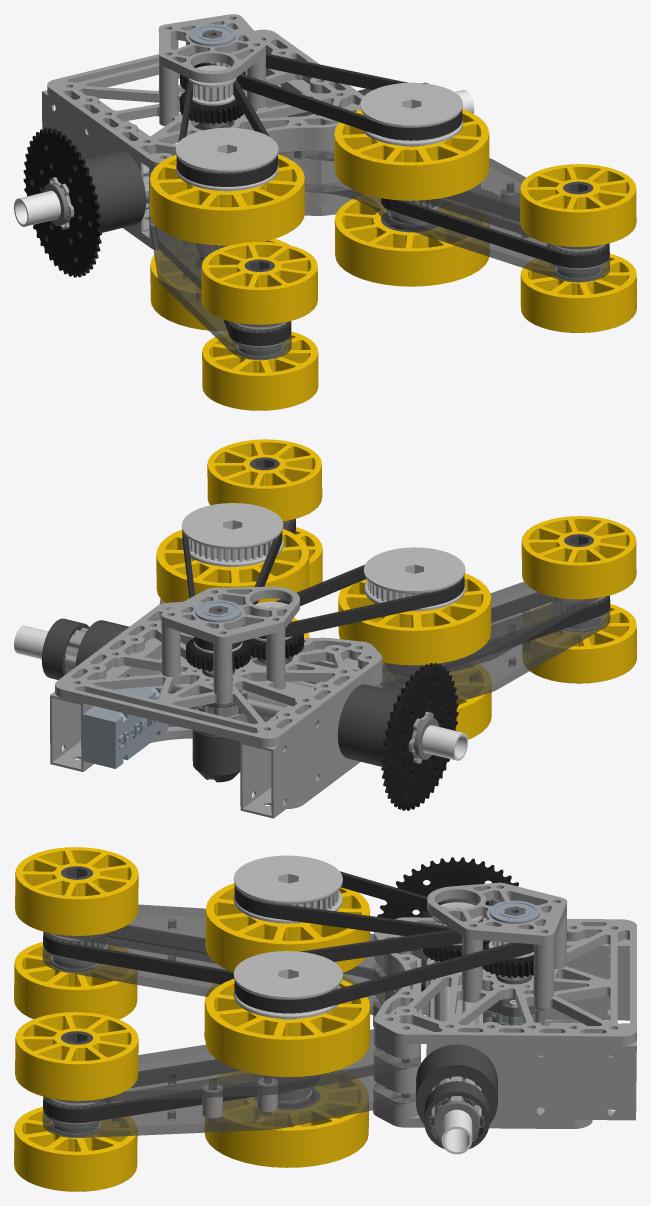
3 renders of one model, top to bottom at view 1: azimuth 30°, elevation 25°; view 2: azimuth 150°, elevation 25°; view 3: azimuth 270°, elevation 25°, orthographic. The views are drawn at different scales.
Parts seen in each view (by area): view 1: 4" OD 1/2" Hex Bore Compliant Wheel 35A (am-3480) NOSIMPLIFY (×4), am-3946 3IN 500Hex Molded Compliant Wheel VER 2 NOSIMPLIFY (×4), Part 1 (×3), Part 3, 6328-23-P-0307 NOSIMPLIFY (×2), 48T #25 Plate Sprocket MAXSpline (REV-21-1964), 80t 5mm Belt (×2), 92t 5mm Belt, Part 14, THE TUBE YEAH, 76t 5mm Belt, Part 2 (×2) (+9 smaller); view 2: am-3946 3IN 500Hex Molded Compliant Wheel VER 2 NOSIMPLIFY (×4), Part 3, Part 1 (×5), 4" OD 1/2" Hex Bore Compliant Wheel 35A (am-3480) NOSIMPLIFY (×3), 6328-23-P-0307 NOSIMPLIFY (×2), THE TUBE YEAH, 48T #25 Plate Sprocket MAXSpline (REV-21-1964), Part 14, Simplified SPARK MAX, 76t 5mm Belt, Tube 2"x1"x5.116", 80t 5mm Belt (+9 smaller); view 3: Part 1 (×4), am-3946 3IN 500Hex Molded Compliant Wheel VER 2 NOSIMPLIFY (×4), 4" OD 1/2" Hex Bore Compliant Wheel 35A (am-3480) NOSIMPLIFY (×3), Part 3, Tube 2"x1"x5.116", 6328-23-P-0307 NOSIMPLIFY (×2), 80t 5mm Belt (×2), 92t 5mm Belt, Part 14, 76t 5mm Belt, THE TUBE YEAH, 48T #25 Plate Sprocket MAXSpline (REV-21-1964) (+12 smaller).
Part boxes in pixels (box(x1,y1,x2,y2)): 4" OD 1/2" Hex Bore Compliant Wheel 35A (am-3480) NOSIMPLIFY (×4): box(150, 109, 489, 331); am-3946 3IN 500Hex Molded Compliant Wheel VER 2 NOSIMPLIFY (×4): box(201, 164, 636, 410); Part 1 (×3): box(82, 149, 609, 360); Part 3: box(47, 29, 363, 169); 6328-23-P-0307 NOSIMPLIFY (×2): box(175, 82, 463, 190); 48T #25 Plate Sprocket MAXSpline (REV-21-1964): box(23, 127, 101, 277); 80t 5mm Belt (×2): box(196, 190, 609, 346); 92t 5mm Belt: box(189, 53, 462, 140); Part 14: box(158, 14, 265, 82); THE TUBE YEAH: box(42, 90, 157, 232); 76t 5mm Belt: box(176, 79, 277, 186); Part 2 (×2): box(149, 135, 363, 241); am-3946 3IN 500Hex Molded Compliant Wheel VER 2 NOSIMPLIFY (×4): box(207, 439, 636, 683); Part 3: box(55, 602, 382, 747); Part 1 (×5): box(41, 519, 610, 766); 4" OD 1/2" Hex Bore Compliant Wheel 35A (am-3480) NOSIMPLIFY (×3): box(156, 529, 491, 739); 6328-23-P-0307 NOSIMPLIFY (×2): box(181, 503, 465, 611); THE TUBE YEAH: box(240, 676, 370, 818); 48T #25 Plate Sprocket MAXSpline (REV-21-1964): box(381, 663, 458, 810); Part 14: box(161, 586, 299, 645); Simplified SPARK MAX: box(83, 675, 167, 768); 76t 5mm Belt: box(257, 564, 464, 639); Tube 2"x1"x5.116": box(50, 638, 161, 771); 80t 5mm Belt: box(384, 592, 610, 676); Part 1 (×4): box(42, 904, 497, 1149); am-3946 3IN 500Hex Molded Compliant Wheel VER 2 NOSIMPLIFY (×4): box(14, 847, 138, 1191); 4" OD 1/2" Hex Bore Compliant Wheel 35A (am-3480) NOSIMPLIFY (×3): box(204, 883, 370, 1167); Part 3: box(374, 917, 636, 1045); Tube 2"x1"x5.116": box(426, 1029, 636, 1120); 6328-23-P-0307 NOSIMPLIFY (×2): box(233, 855, 342, 1018); 80t 5mm Belt (×2): box(43, 925, 319, 1123); 92t 5mm Belt: box(234, 929, 533, 1013); Part 14: box(427, 882, 567, 945); 76t 5mm Belt: box(234, 871, 482, 935); THE TUBE YEAH: box(426, 938, 629, 1020); 48T #25 Plate Sprocket MAXSpline (REV-21-1964): box(377, 857, 518, 991).
Bounding box in the file's own units: 0.3377 × 0.1265 × 0.3852.
